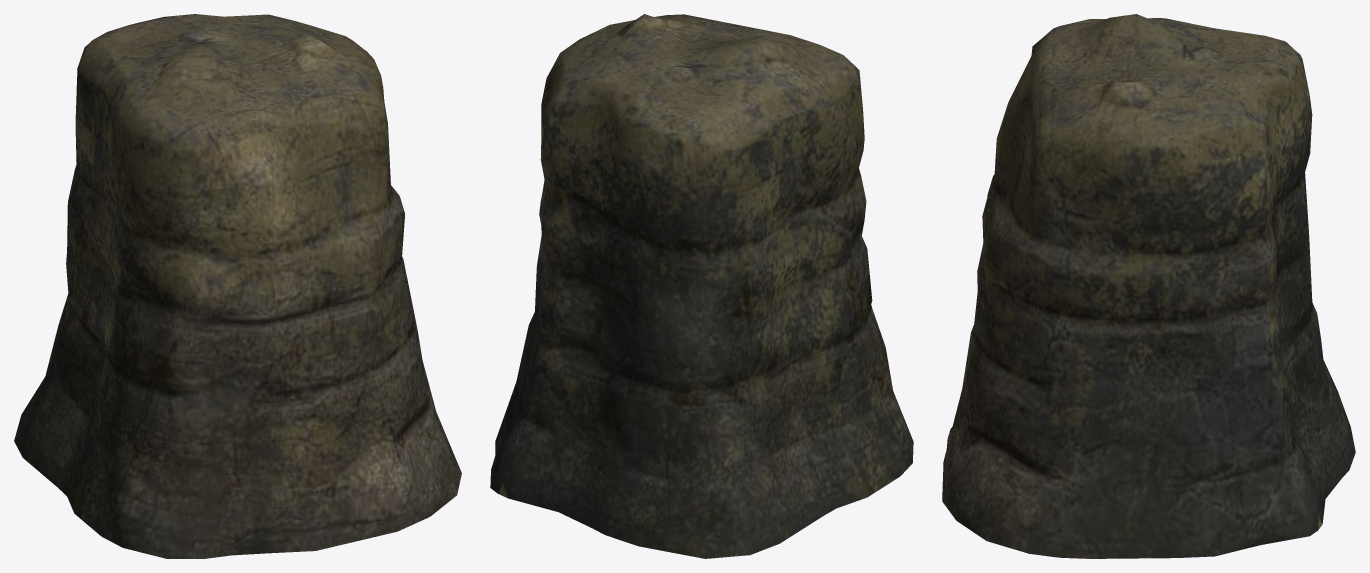
3 renders of one model, left to right at view 1: azimuth 30°, elevation 25°; view 2: azimuth 150°, elevation 25°; view 3: azimuth 270°, elevation 25°, orthographic.
Parts seen in each view (by area): view 1: cliff1; view 2: cliff1; view 3: cliff1.
Part boxes in pixels (x1,y1,x2,y2): cliff1: (14,14,461,558); cliff1: (490,14,913,558); cliff1: (942,14,1355,558).
Bounding box in the file's own units: 8.46 × 10.08 × 8.81.
Materials: 1 (1 with a texture image).
